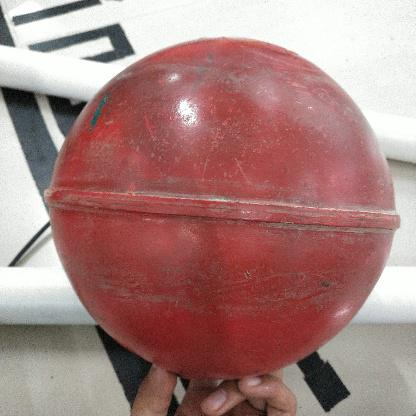red_buoy: (40, 30, 401, 386)
